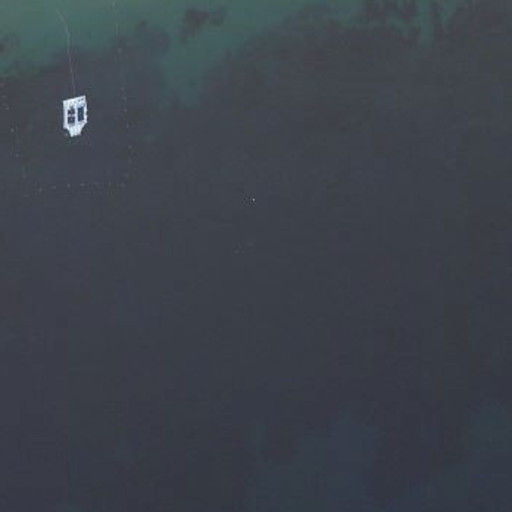ship: (58, 93, 93, 140)
